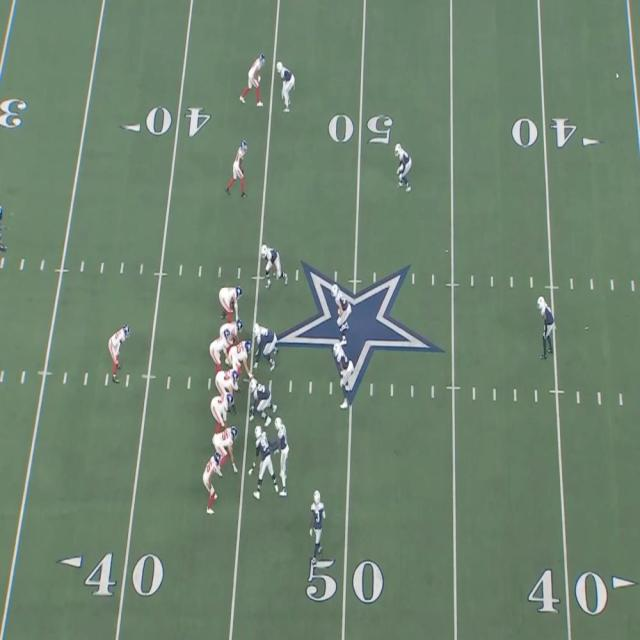center: (233, 339, 253, 375)
db: (311, 488, 323, 568), (277, 62, 295, 114), (539, 295, 554, 357), (396, 142, 415, 190)
lb: (253, 422, 278, 498), (333, 342, 352, 410), (332, 288, 349, 338)
qb: (210, 330, 230, 371)
skill: (243, 54, 266, 106), (108, 323, 128, 380), (215, 427, 239, 474), (202, 450, 220, 512), (230, 139, 249, 196)
